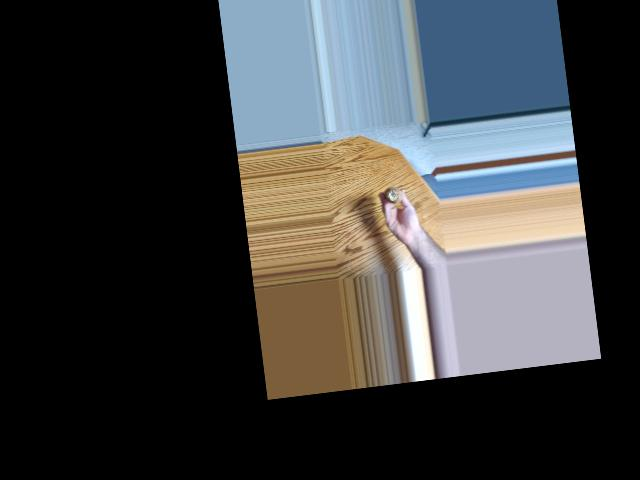sweet_potato: (385, 181, 404, 204)
